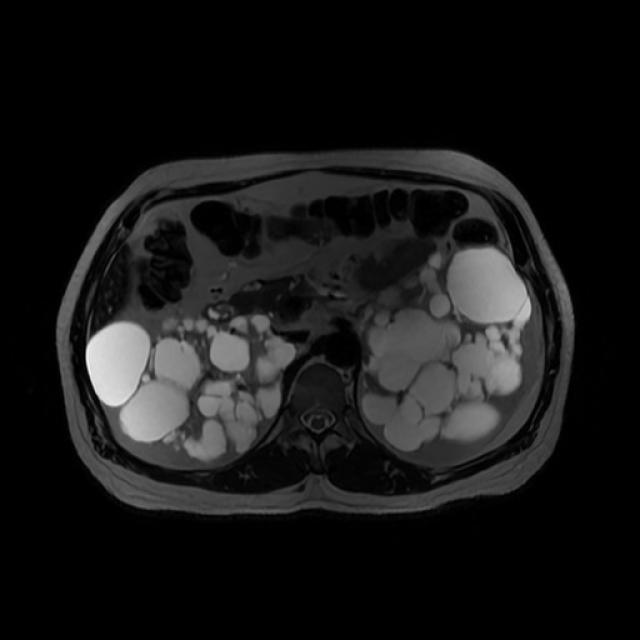sag: (84, 313, 301, 466)
sol: (359, 246, 532, 452)
